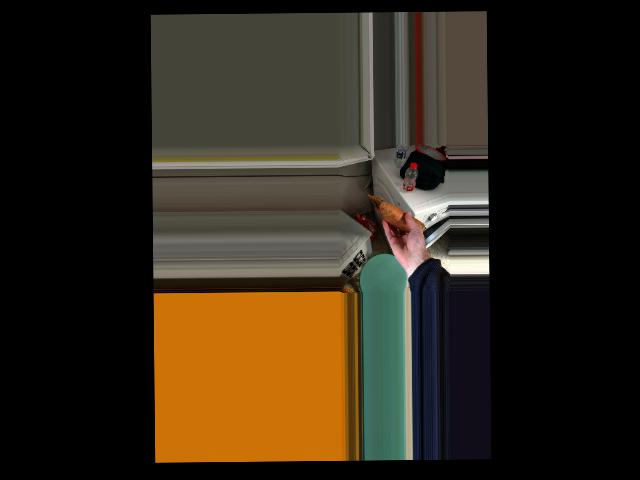sweet_potato: (383, 201, 415, 232)
